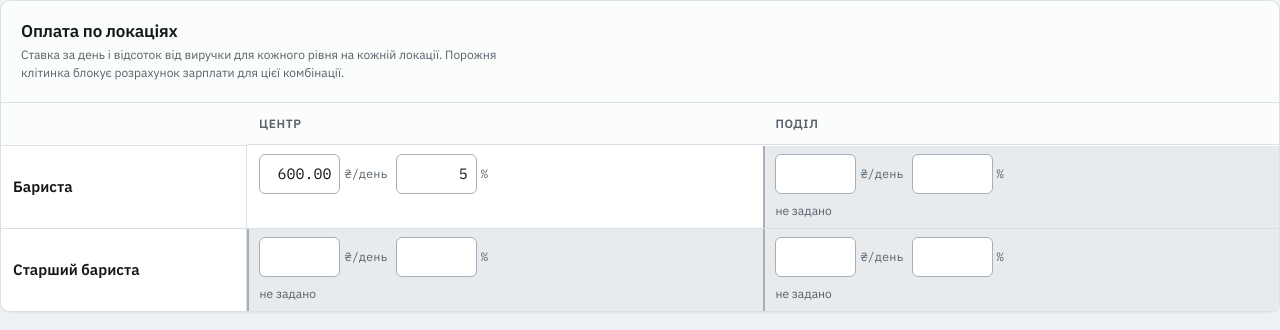
it: pay matrix › confirms a successful write, because the figure on screen does not change to show it
The image size is (1280, 330).
Expected: the column heading "Бариста" is shown, [1,146,247,228]
Expected: the text "збережено" is not shown
Replace the text in the field named "Ставка ₴/день — Бариста, Центр" with "700" at (300, 174), box [260,154,340,194]
Then press Enter
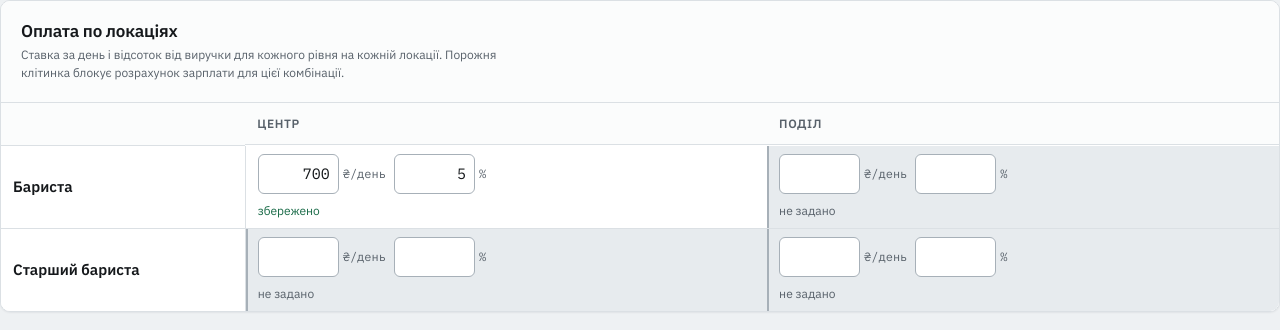
Now the text "збережено" is shown, box [258,203,320,218]
